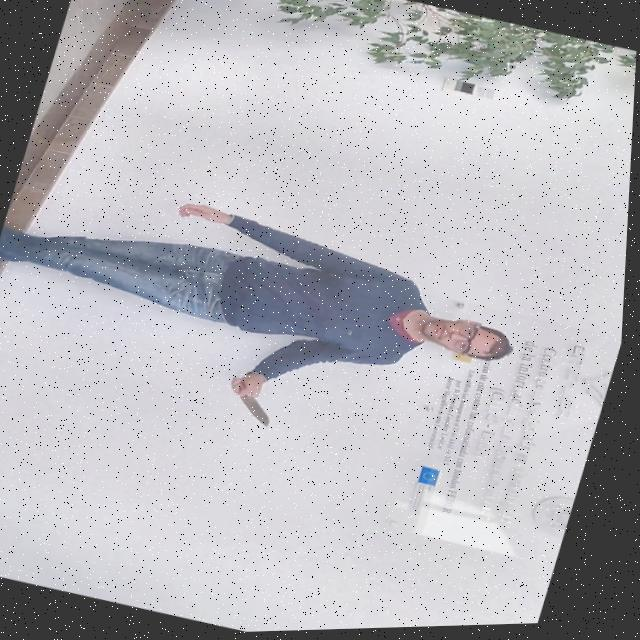knife: (236, 393, 284, 433)
